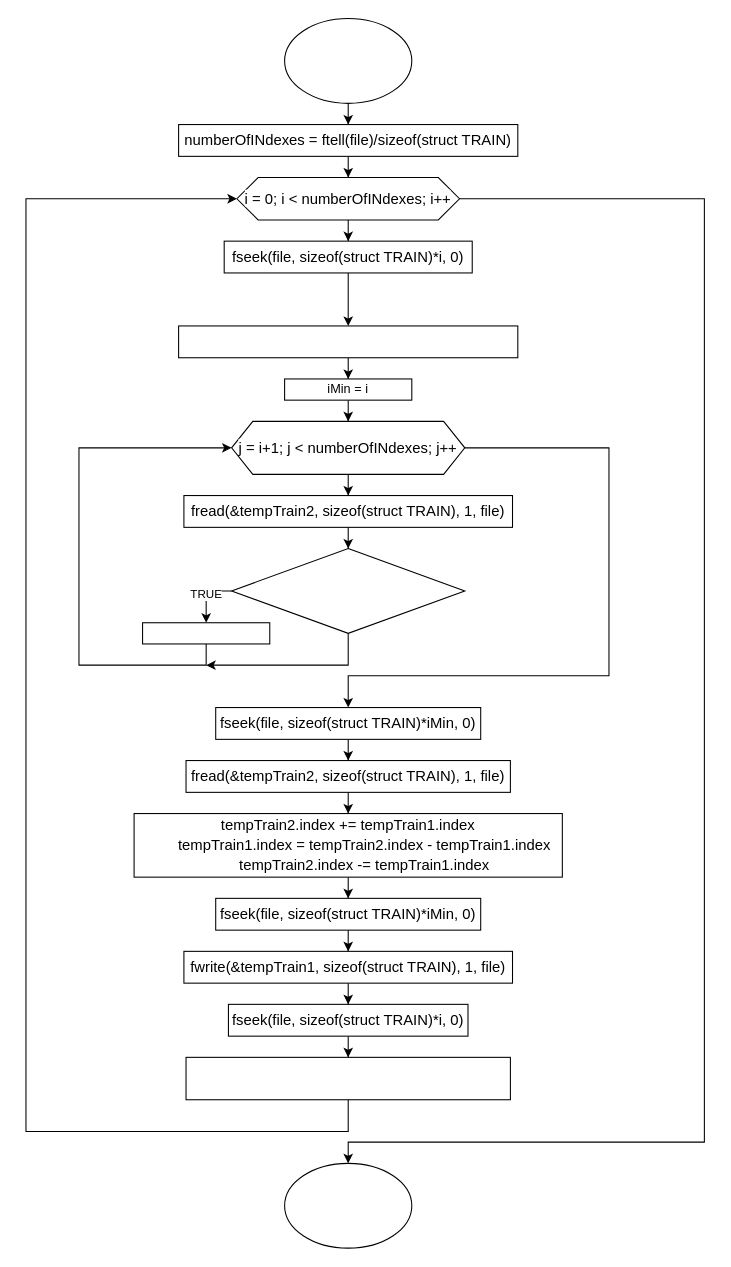
Image size: 731x1267. Some labels were removed from this diagram. The shapes that lost their labels are listed below. From the top down, each one's box as (x1, y1, x2, y2) in pixels, then its label:
(284, 17, 412, 103): Начало sortTrains
(178, 325, 518, 358): fread(&tempTrain1, sizeof(struct TRAIN), 1, file)
(231, 547, 465, 633): tempTrain2.number < tempTrain1.number
(142, 622, 270, 644): iMin = j
(185, 1056, 510, 1100): fwrite(&tempTrain2, sizeof(struct TRAIN), 1, file)
(284, 1162, 412, 1248): Конец
